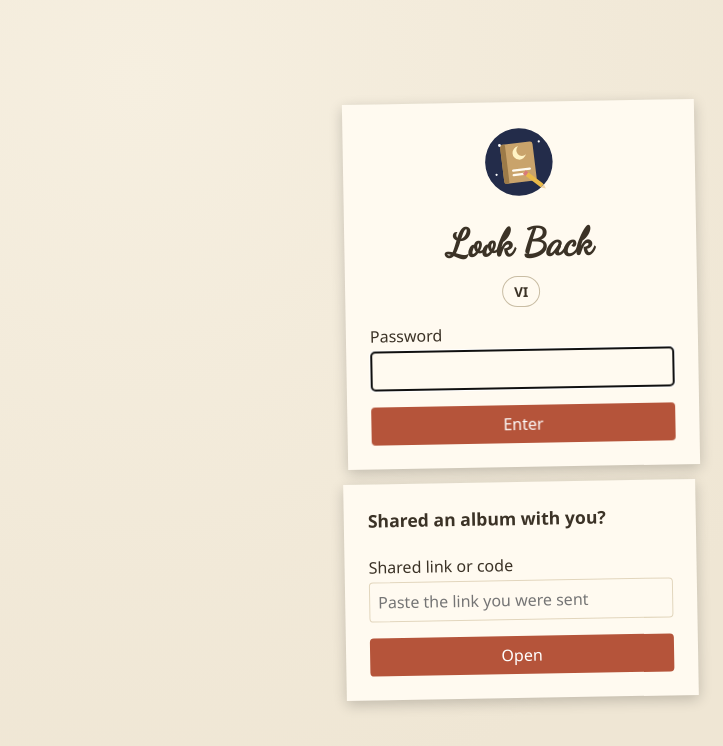
Test: 401 shows Wrong password
The width and height of the screenshot is (723, 746).
In the password field labelled "Password": {"x": 522, "y": 368} x1=370 y1=346 x2=675 y2=391, type "secret"
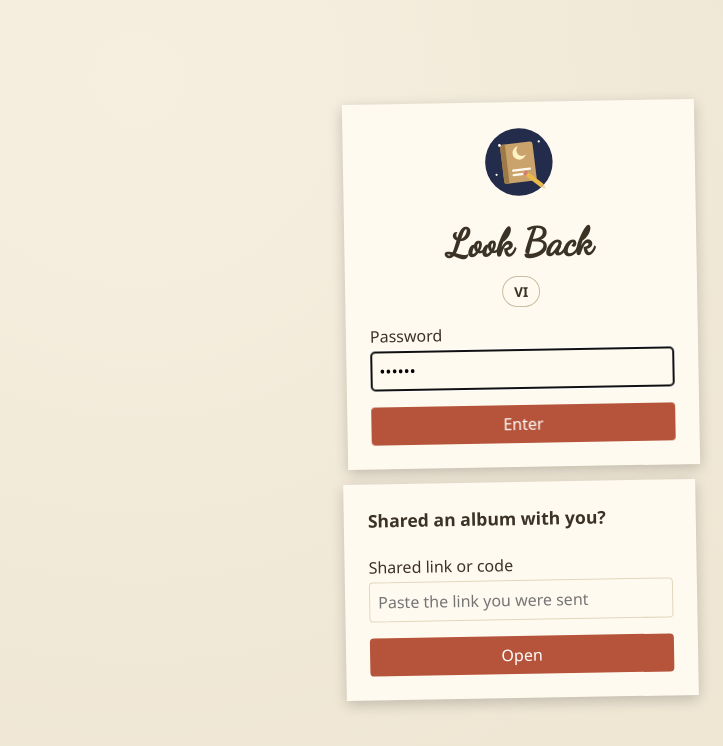
Click the button "Enter": {"x": 523, "y": 423} x1=371 y1=402 x2=676 y2=445
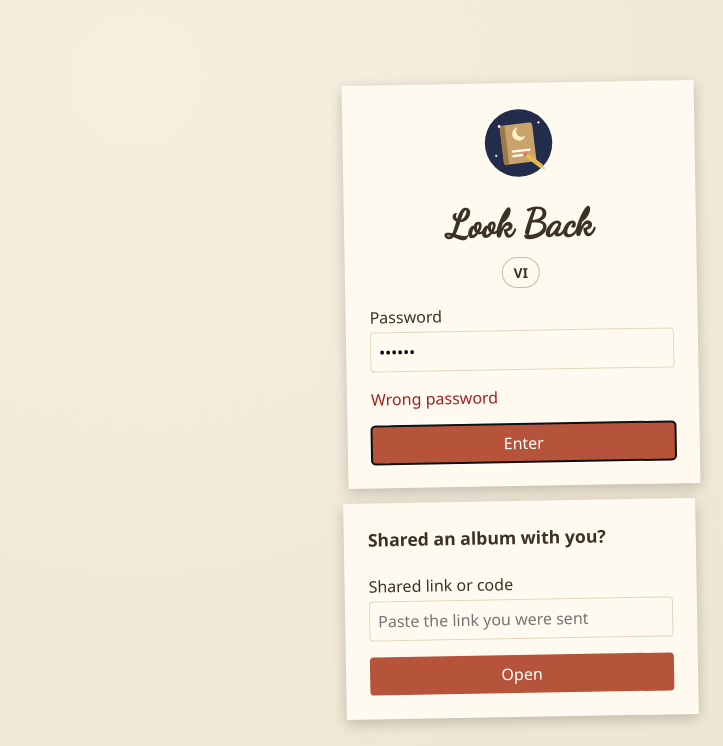
Expected: the text "Wrong password" is shown, x1=371 y1=386 x2=498 y2=410
